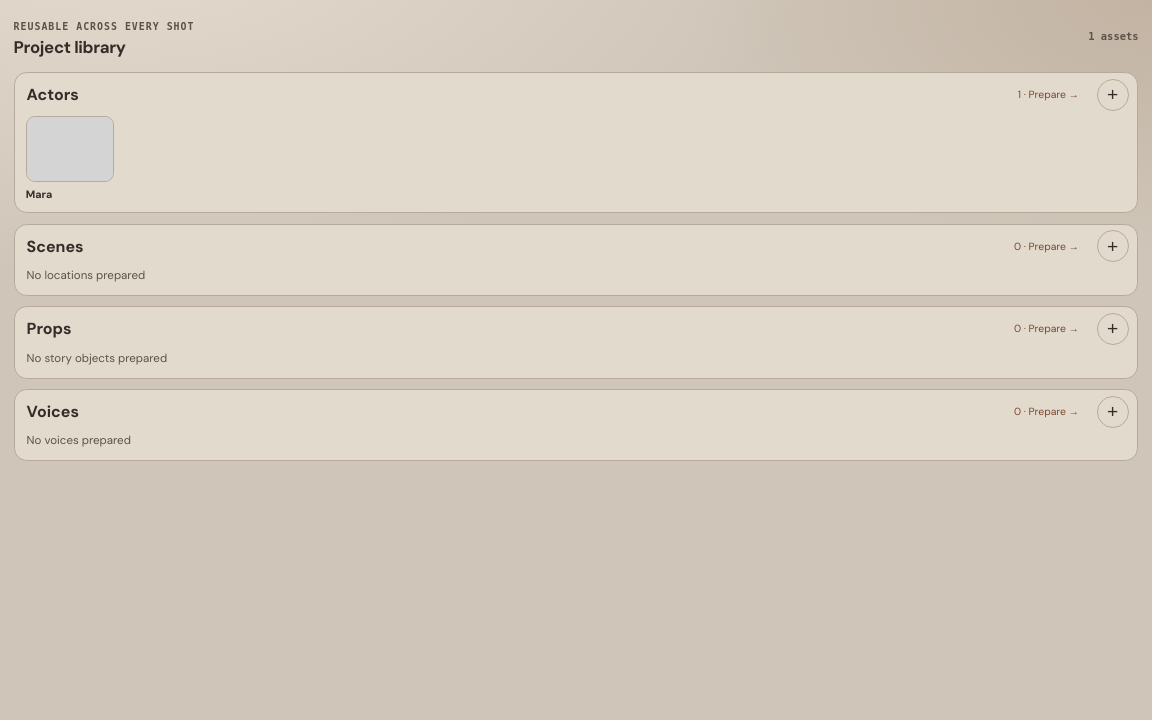
it: LibraryOverview asset details › edits asset metadata from the mobile overview detail
This screenshot has width=1152, height=720.
Click the button with aria-label "View Mara asset set": (70, 159) [26,116,114,201]
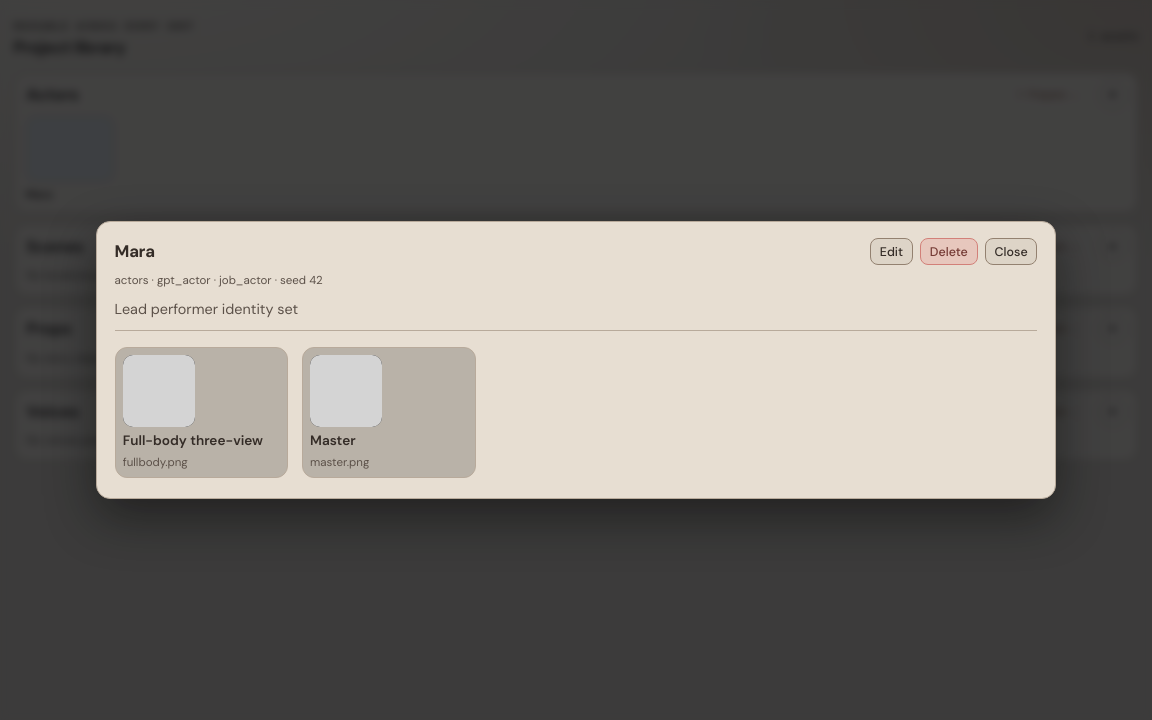
Click the button "Edit": (891, 252) [870,238,913,265]
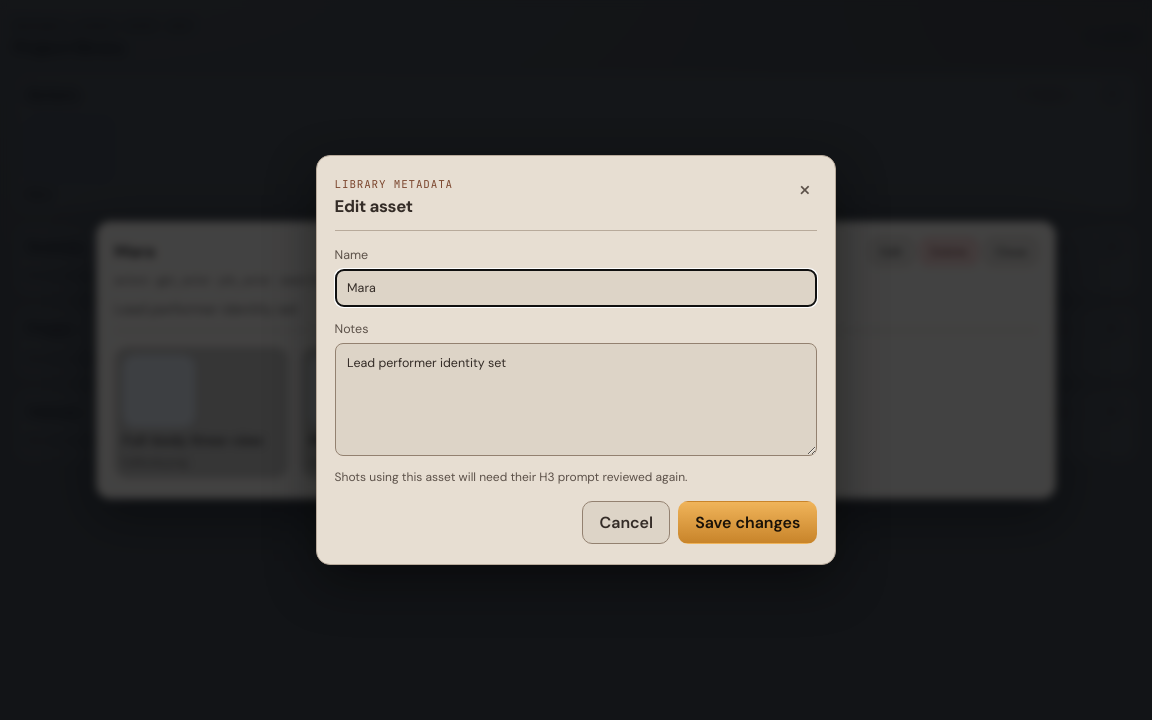
Replace the text in the field labelled "Name" with "Mara profile": (576, 288) [335,269,817,308]
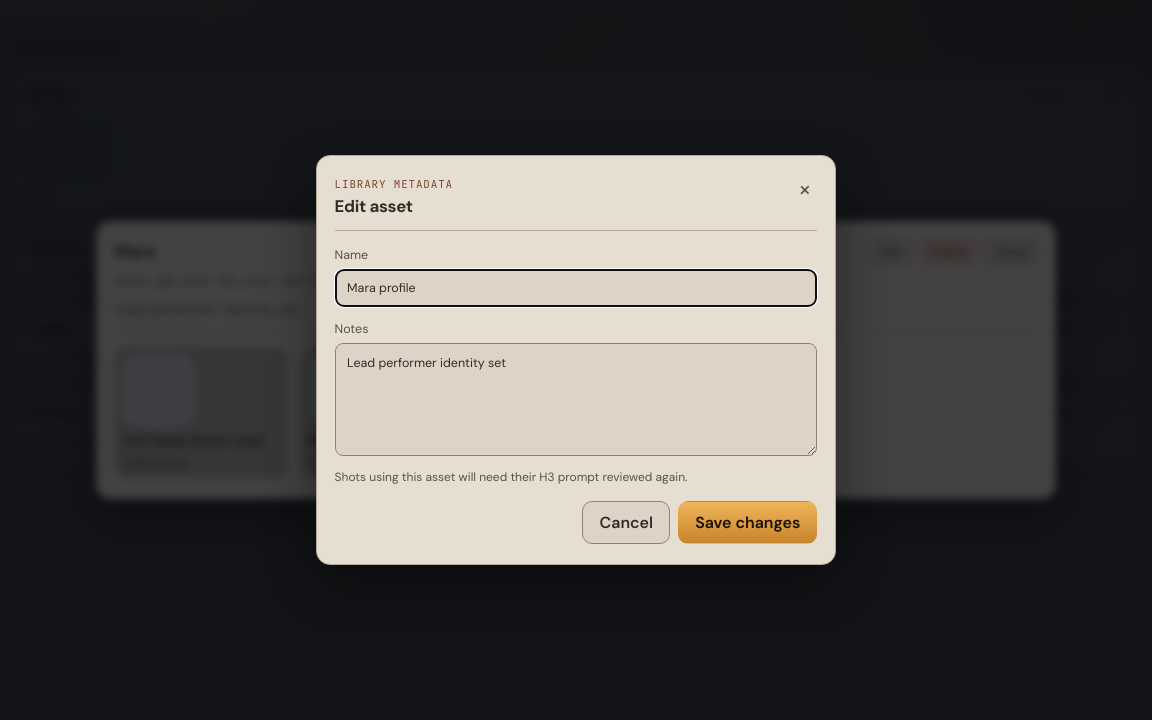
Replace the text in the text box labelled "Notes" with "Right-facing continuity angle": (576, 399) [335,343,817,456]
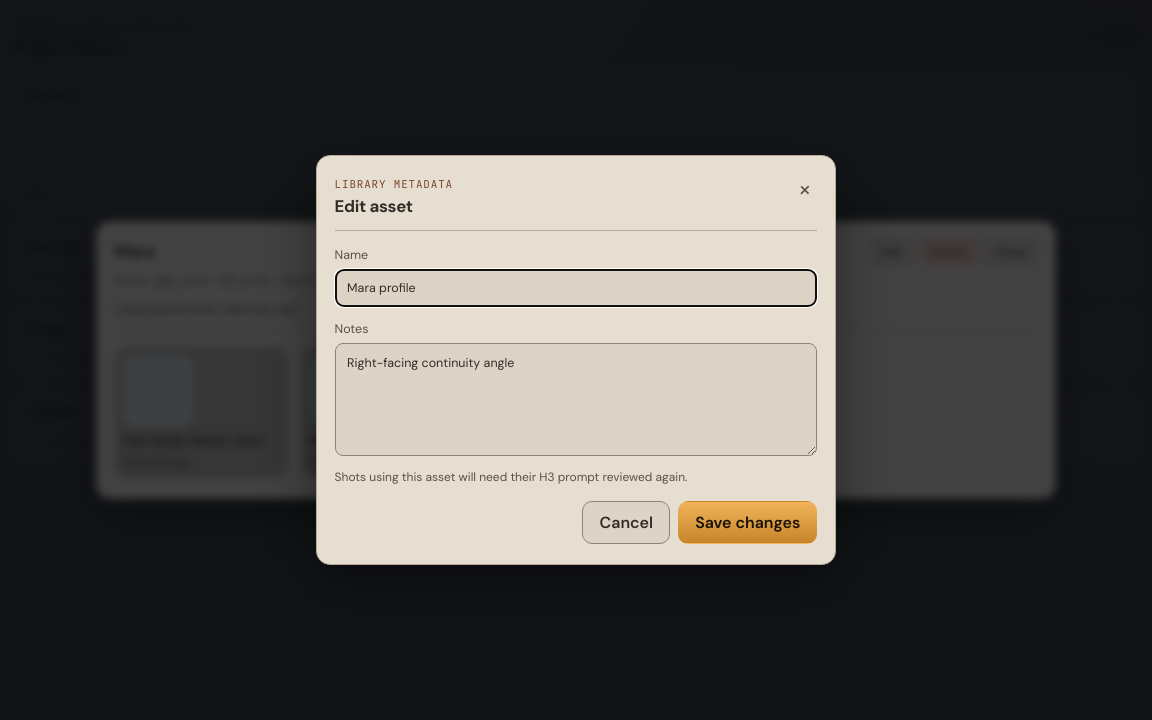
Click the button "Save changes": (748, 522) [678,501,817,544]
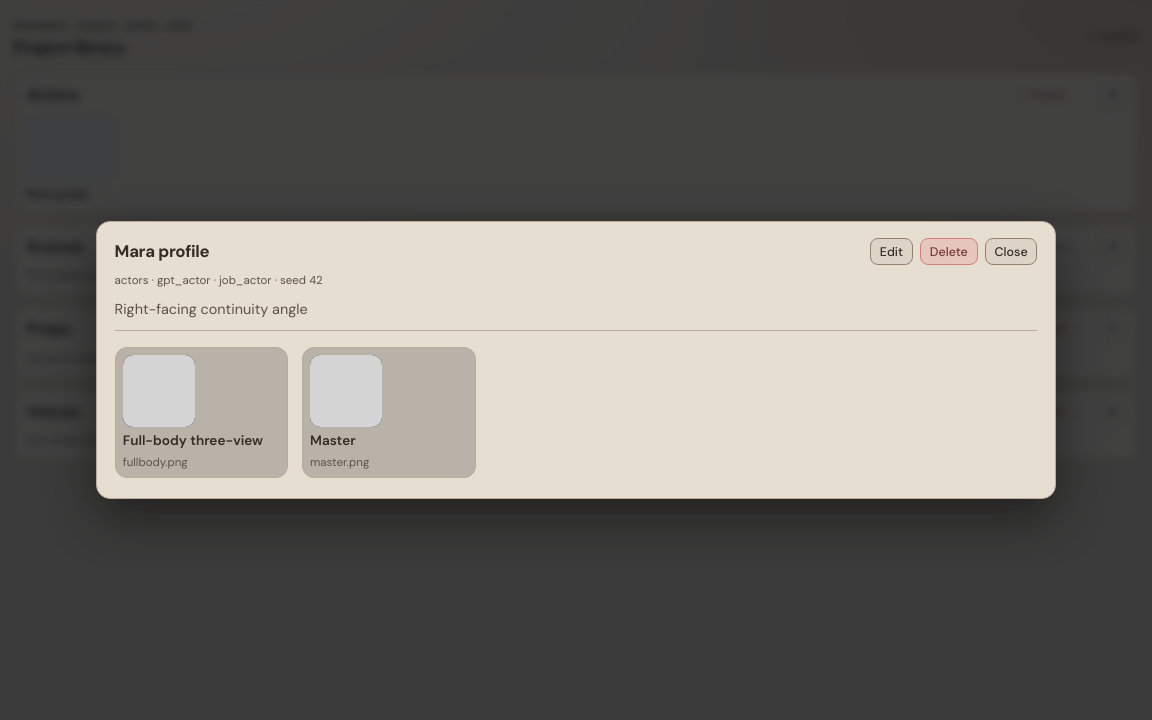
Result: the dialog named "Mara profile assets" is shown
Result: the text "Right-facing continuity angle" is shown at [115,300,323,318]
